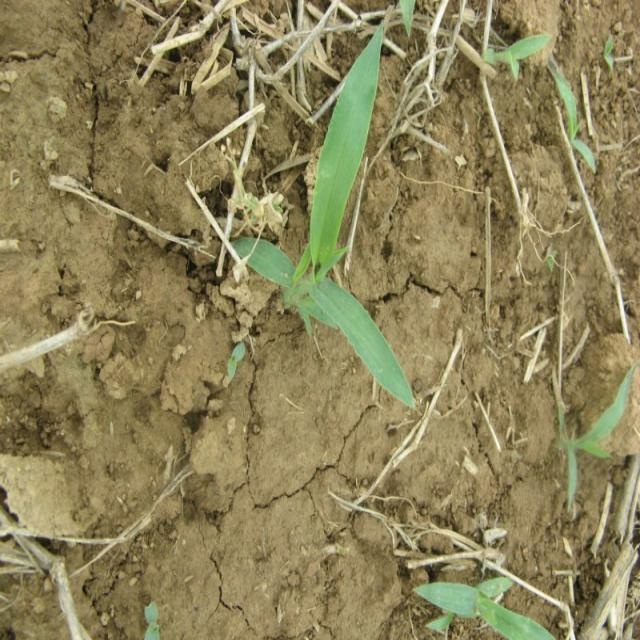bg: (225, 24, 422, 407)
